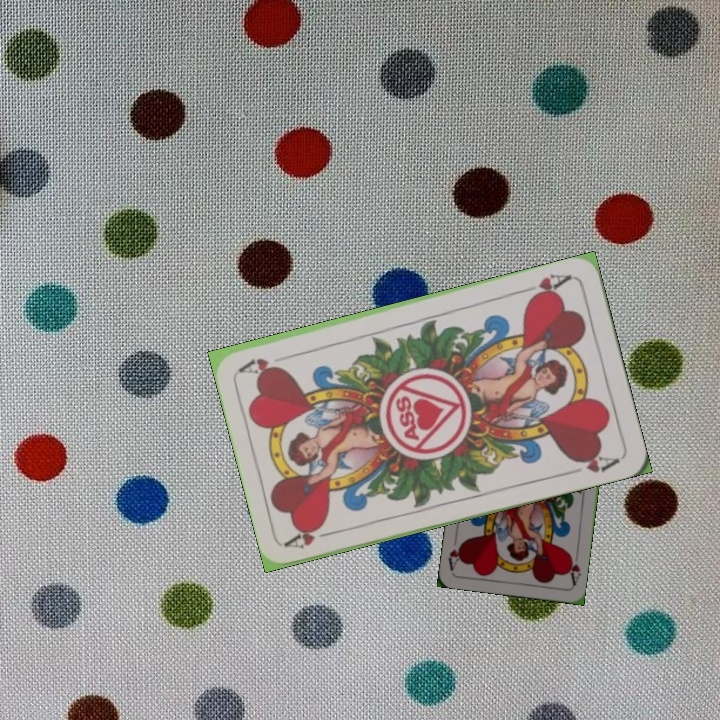HA: (517, 269, 575, 303), (282, 520, 341, 551), (563, 547, 583, 588)
